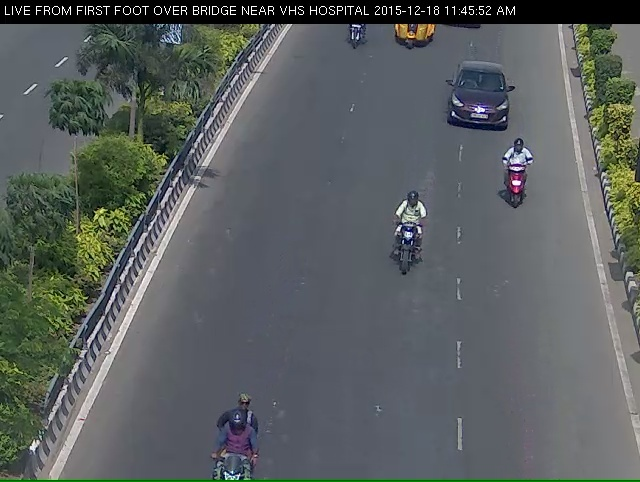Auto: (383, 17, 444, 61)
Car: (440, 59, 519, 143)
Person: (383, 196, 423, 302), (500, 140, 538, 231), (339, 18, 367, 56)
